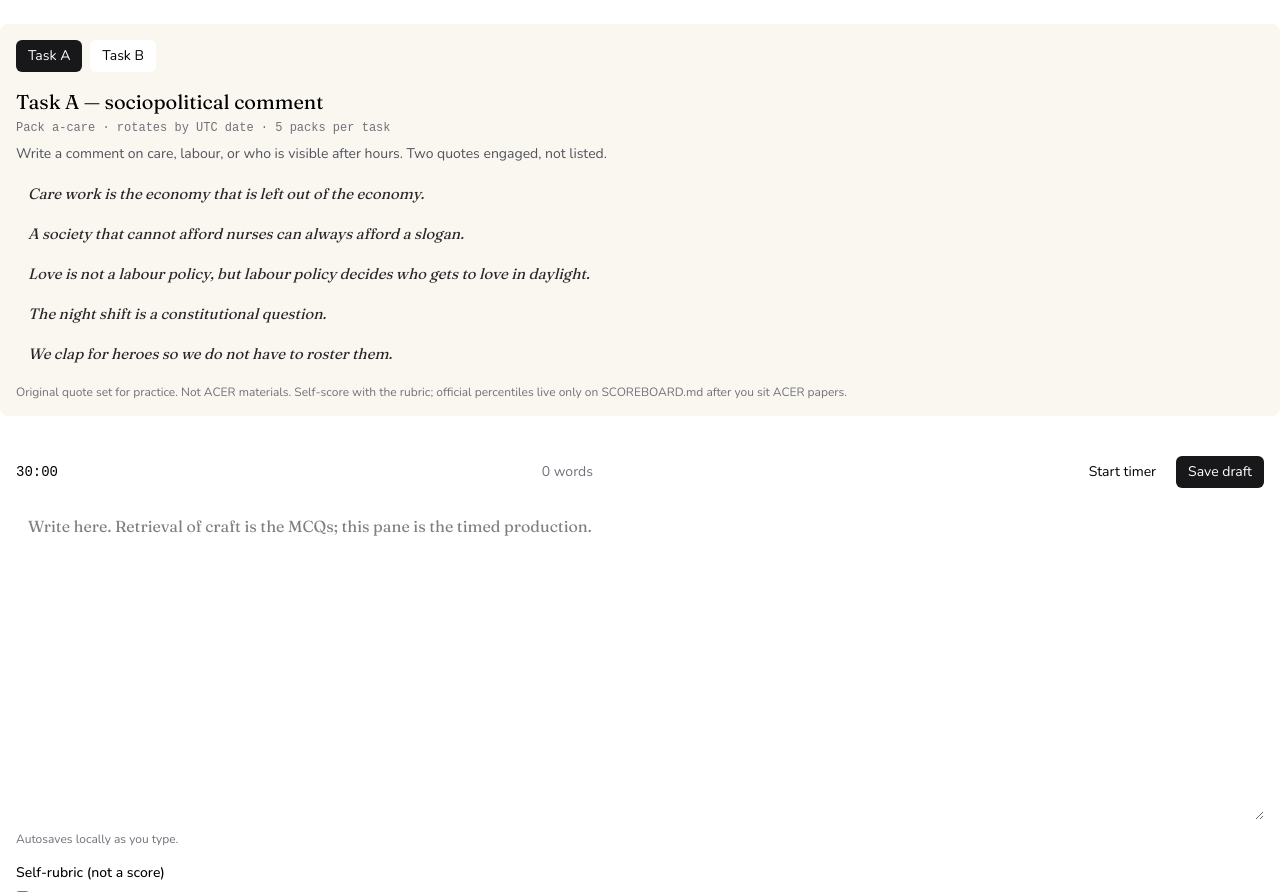
Scenario: WritingStudio › shows today's Task A pack and switches to Task B
The width and height of the screenshot is (1280, 892).
Expected: the text with test id "prompt-pack" shows "a-care", [52,121,95,135]
Expected: the text with test id "write-timer" reads "30:00", [16,462,58,482]
Click the button with test id "task-b".
click(123, 56)  # box [90,40,156,72]
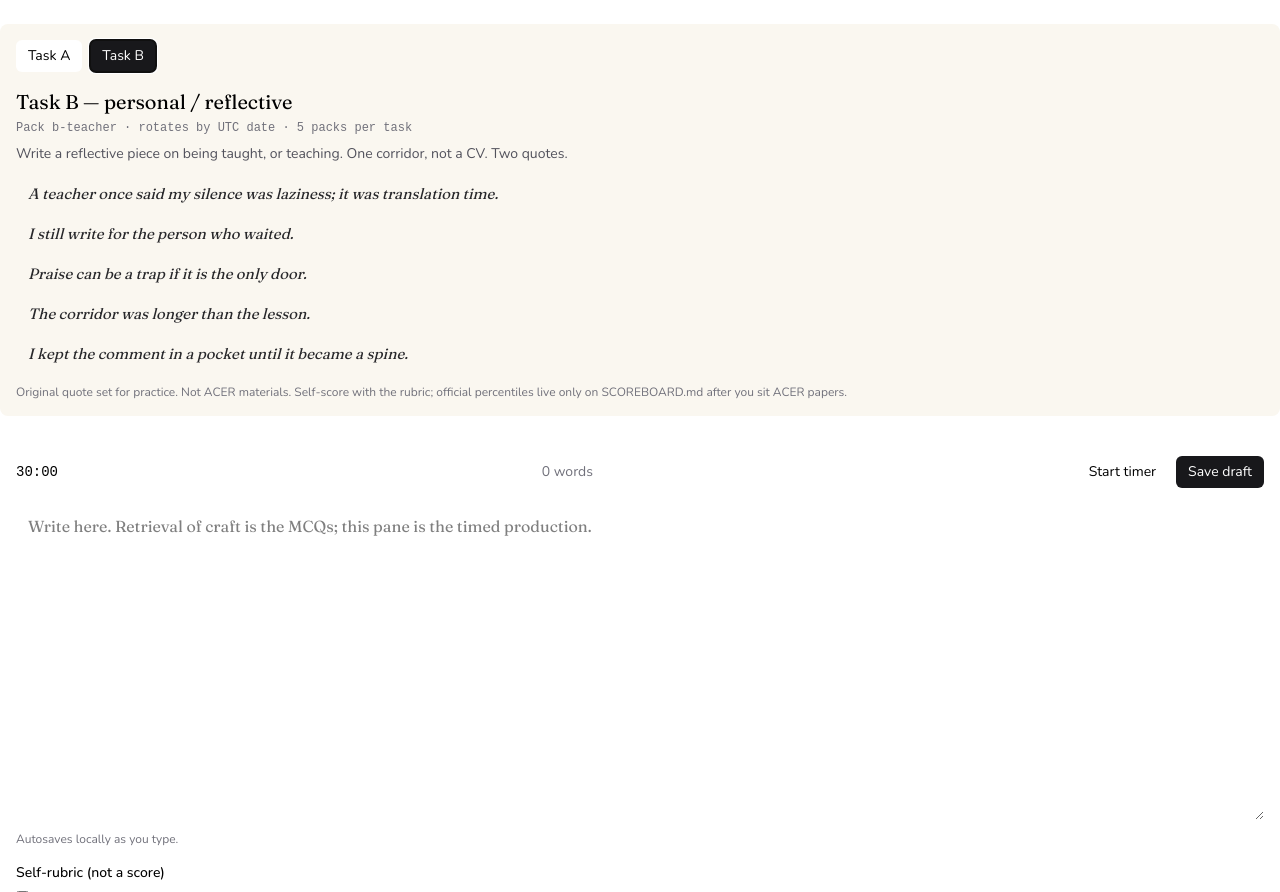
Now the text with test id "prompt-pack" shows "b-teacher", box [52,121,117,135]
Now the list item "A teacher once said my silence was laziness; it was translation time." is shown, box [28,184,498,203]
